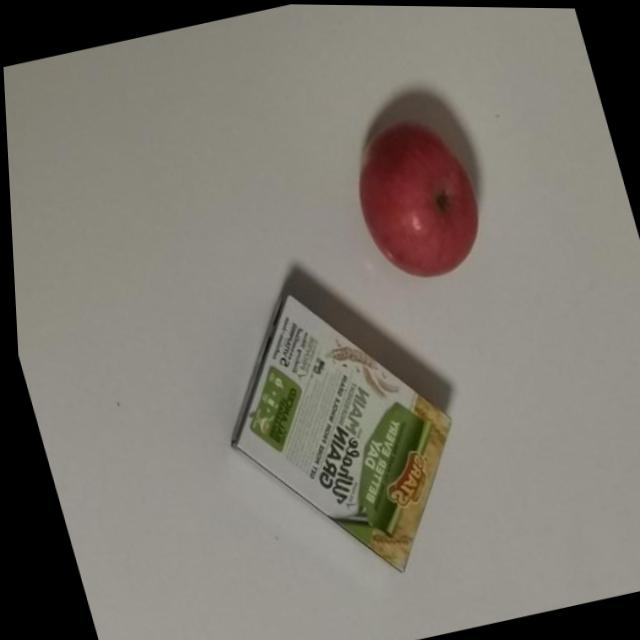Apple: (335, 98, 514, 302)
Cerealbox: (169, 227, 495, 611)
